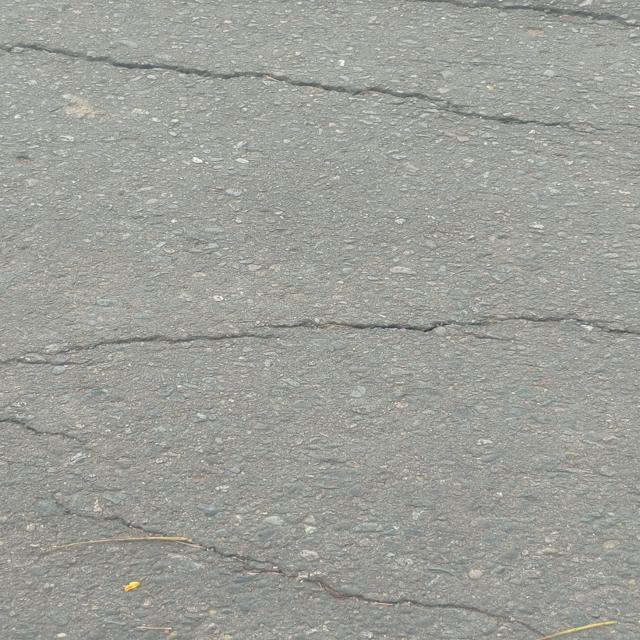Melintang: (50, 492, 576, 640), (0, 22, 602, 149), (0, 305, 640, 377)
